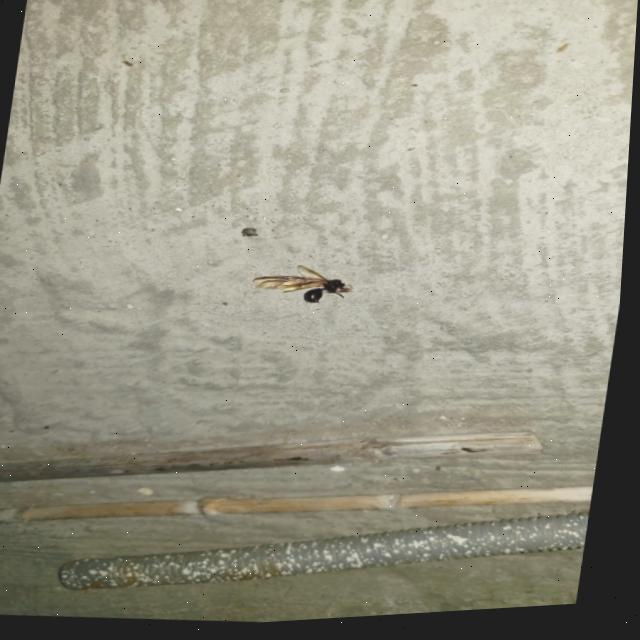Dead-Male-Alate: (253, 263, 360, 314)
